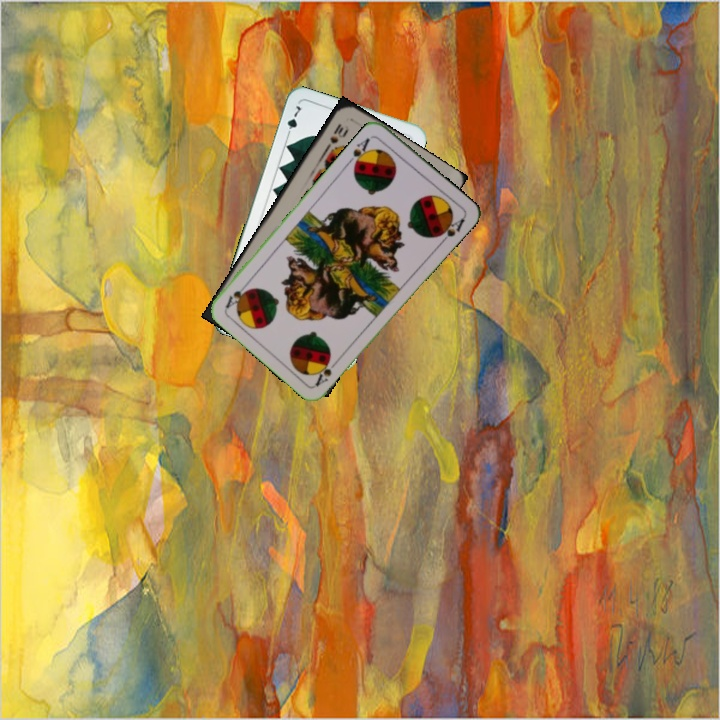G7: (283, 101, 304, 140)
S10: (322, 119, 350, 153)
SA: (344, 134, 374, 171), (311, 354, 342, 389)
